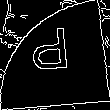P_S: (32, 28, 78, 82)
